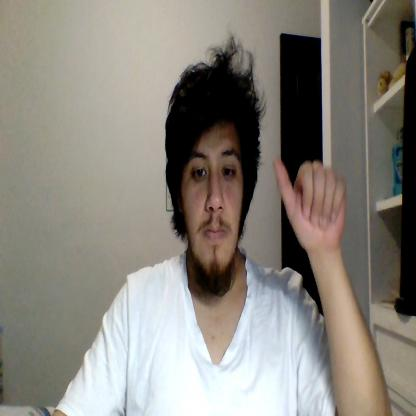A: (273, 153, 346, 249)
